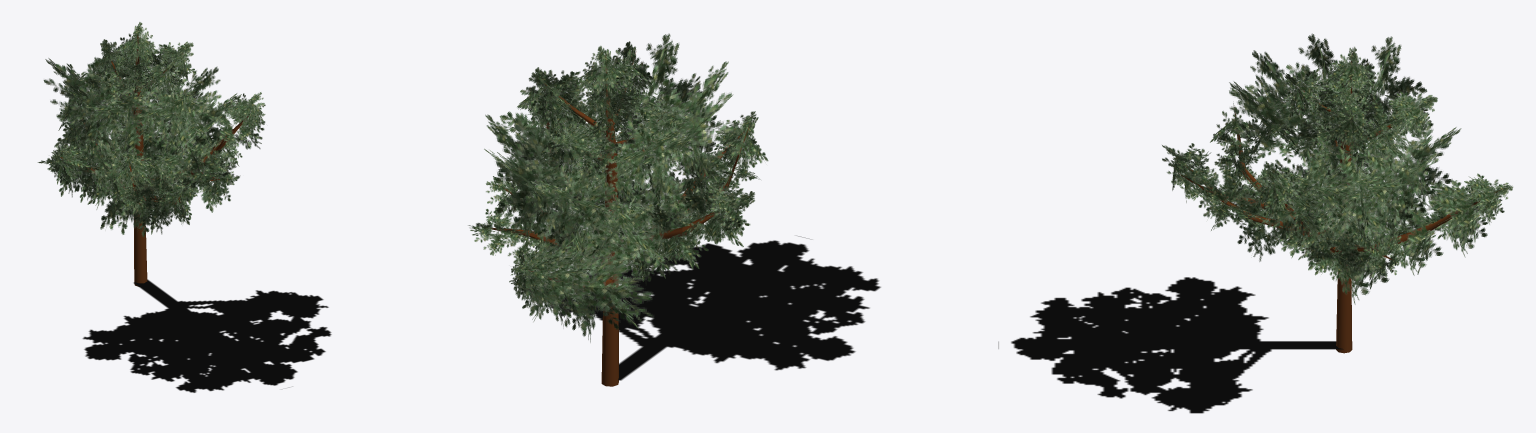
The model's file is tree2.glb.
3 views of the same model, side by side, from view 1: azimuth 30°, elevation 25°; view 2: azimuth 150°, elevation 25°; view 3: azimuth 270°, elevation 25° (orthographic). The views are drawn at different scales.
Parts seen in each view (by area): view 1: leaf, trunk; view 2: leaf, trunk; view 3: leaf, trunk.
Part boxes in pixels (bbox=[...]): leaf: bbox=[37, 22, 331, 392]; trunk: bbox=[59, 31, 248, 286]; leaf: bbox=[468, 33, 880, 380]; trunk: bbox=[480, 51, 749, 386]; leaf: bbox=[998, 33, 1513, 413]; trunk: bbox=[1178, 52, 1501, 353].
Bounding box in the file's own units: 15.14 × 15.19 × 22.91.
3 materials, 2 textured.
